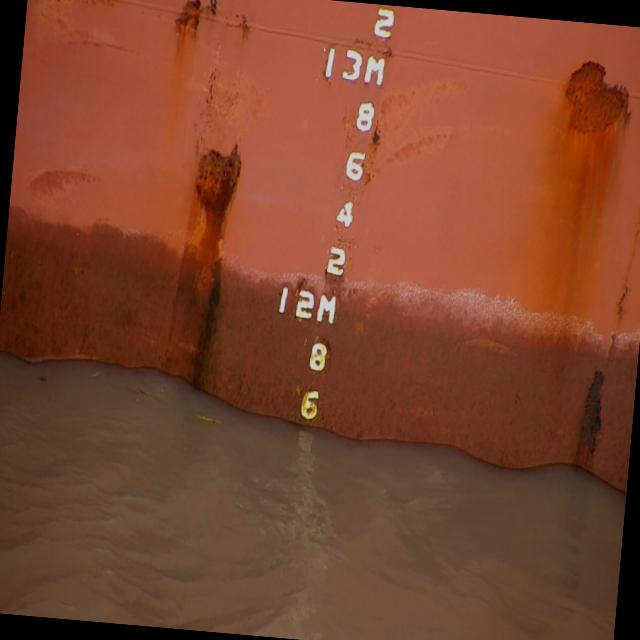Ship Draft Marks: (342, 48, 364, 82), (344, 149, 366, 182), (373, 7, 395, 40), (316, 292, 337, 326), (294, 288, 316, 320), (325, 244, 345, 277), (364, 56, 385, 87), (300, 389, 320, 421), (355, 102, 375, 132), (308, 341, 327, 372), (336, 198, 354, 230), (324, 47, 336, 78), (278, 286, 288, 314)
